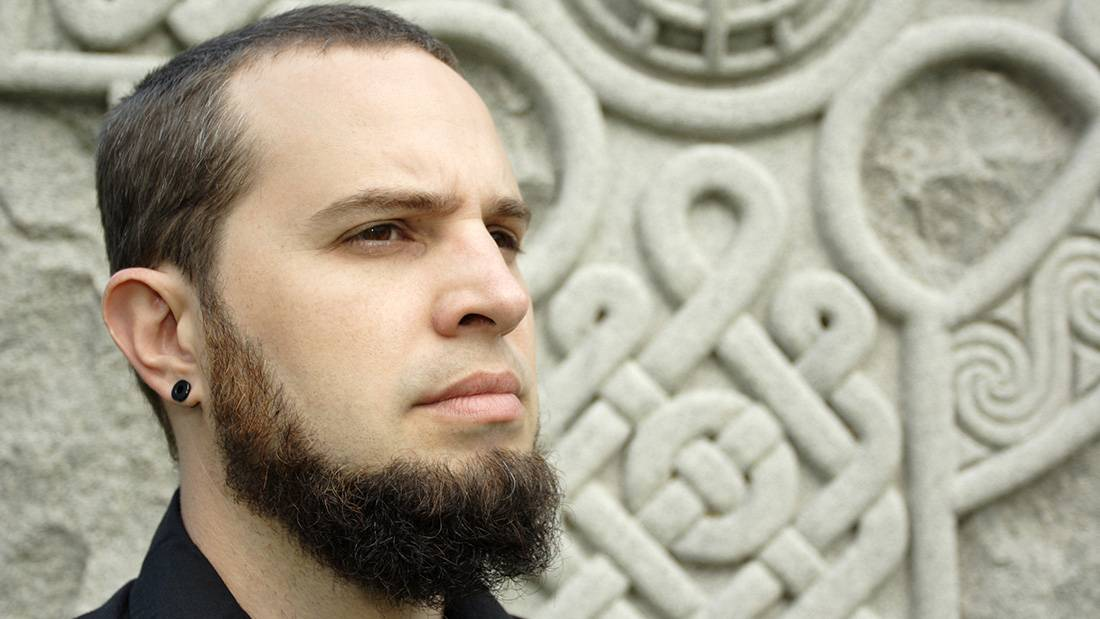beard: (189, 321, 569, 606)
